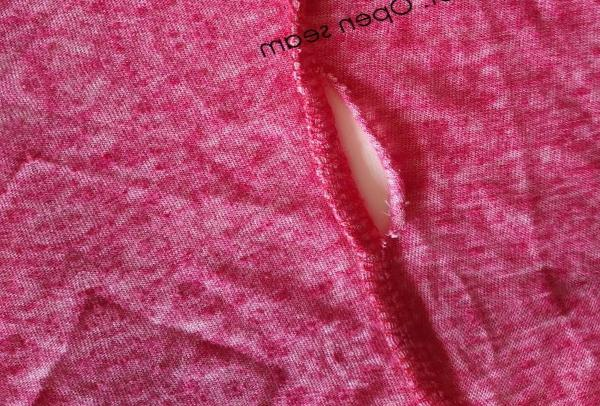hole: (310, 61, 411, 259)
